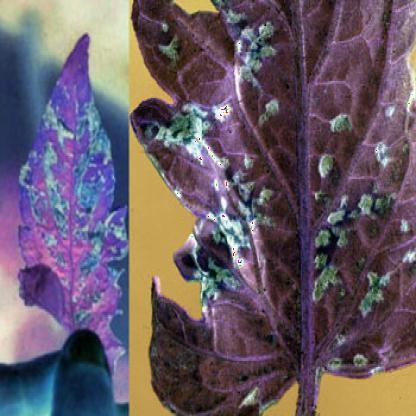Tomato leaf late blight: (131, 7, 415, 414), (13, 27, 128, 394)
